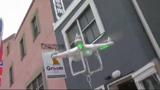UAV: (52, 34, 114, 76)
